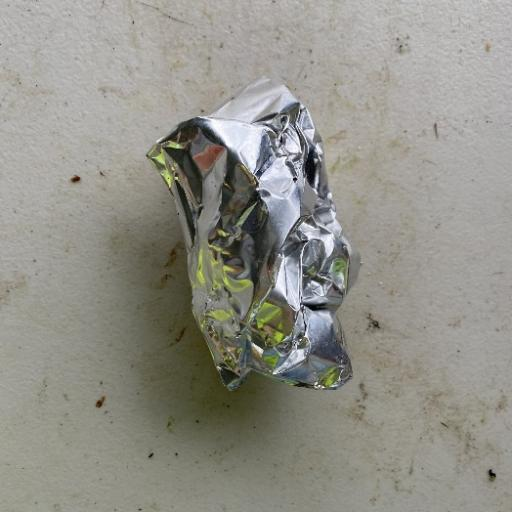Metal: (144, 74, 362, 394)
